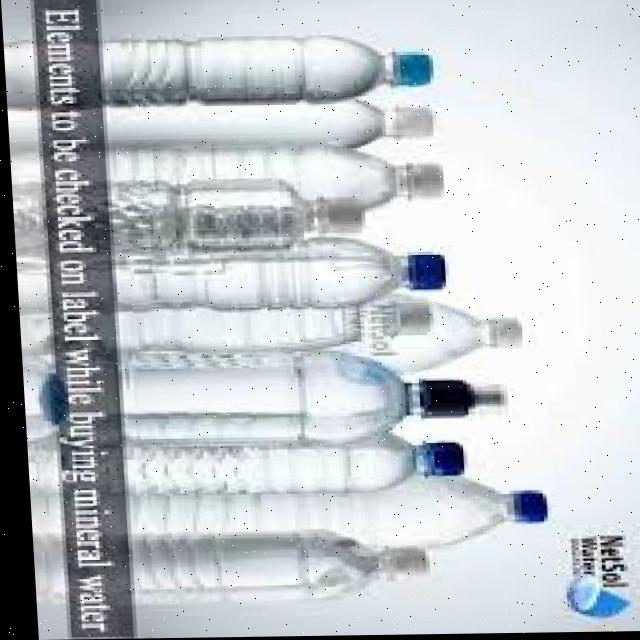bottle: (114, 3, 579, 627)
